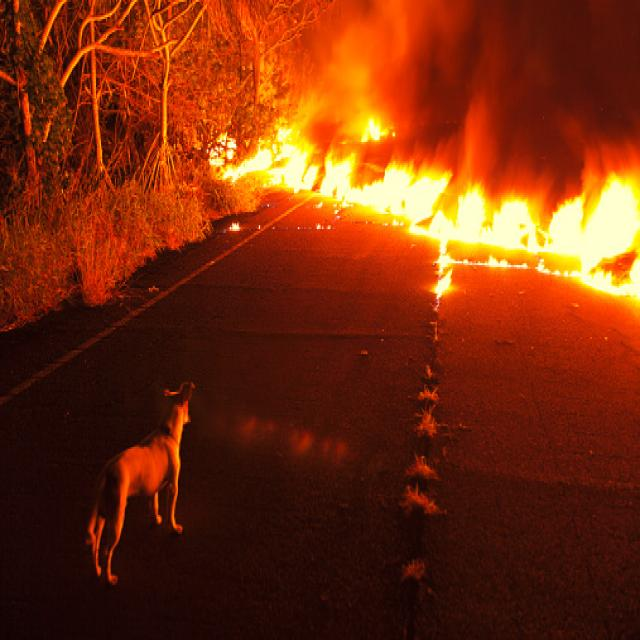Dog: (25, 387, 246, 582)
